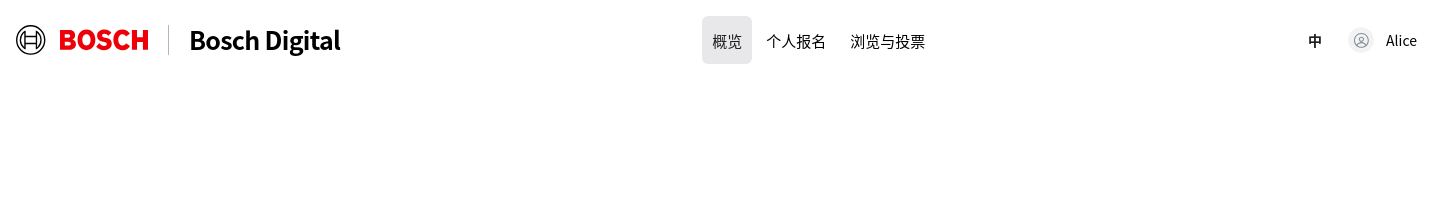
Test: Header › keeps the account role in the account menu
Check: the text "参与者" is not shown
Click the button "Alice": (1383,40) x1=1341 y1=22 x2=1424 y2=58
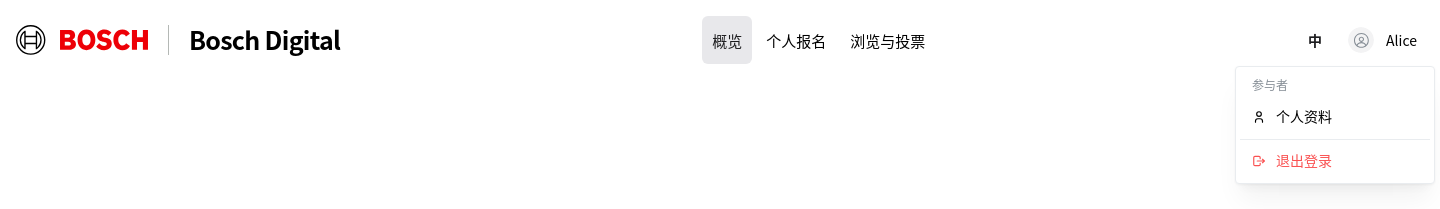
Check: the text "参与者" is shown, box x1=1252 y1=76 x2=1288 y2=93
Check: the text "个人资料" is shown, box x1=1276 y1=106 x2=1332 y2=126
